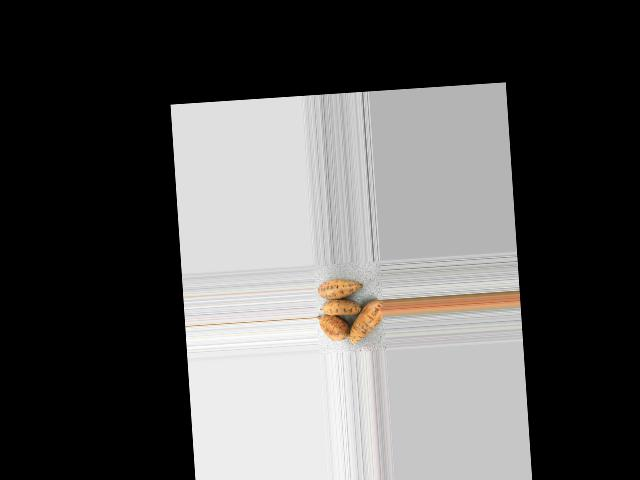sweet_potato: (347, 294, 386, 347)
